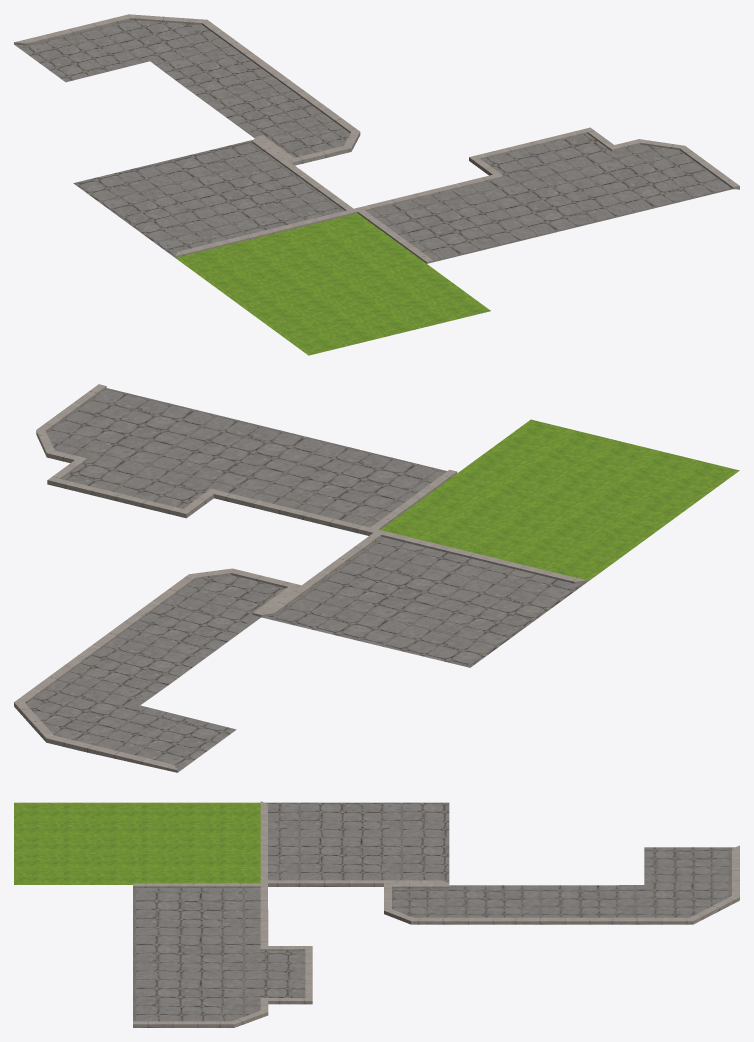
The model's file is TownGroundTile_N.fbx.
3 views of the same model, one above another, from view 1: azimuth 30°, elevation 25°; view 2: azimuth 150°, elevation 25°; view 3: azimuth 270°, elevation 25° (orthographic). The views are drawn at different scales.
Visible parts, largest first — view 1: TownGroundTile_N; view 2: TownGroundTile_N; view 3: TownGroundTile_N.
Part boxes in pixels (<box>): TownGroundTile_N: <box>14,14,739,355</box>; TownGroundTile_N: <box>14,384,739,772</box>; TownGroundTile_N: <box>14,801,739,1027</box>.
Size of the model in its own units: 3230 by 23.48 by 4435.
3 materials, 3 textured.
